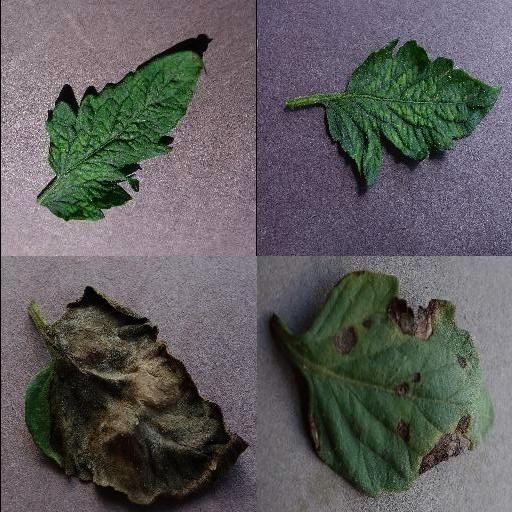Early Blight: (299, 272, 495, 498)
Late Blight: (25, 284, 253, 508)
Mosaic Virus: (42, 51, 206, 223), (323, 37, 503, 189)
